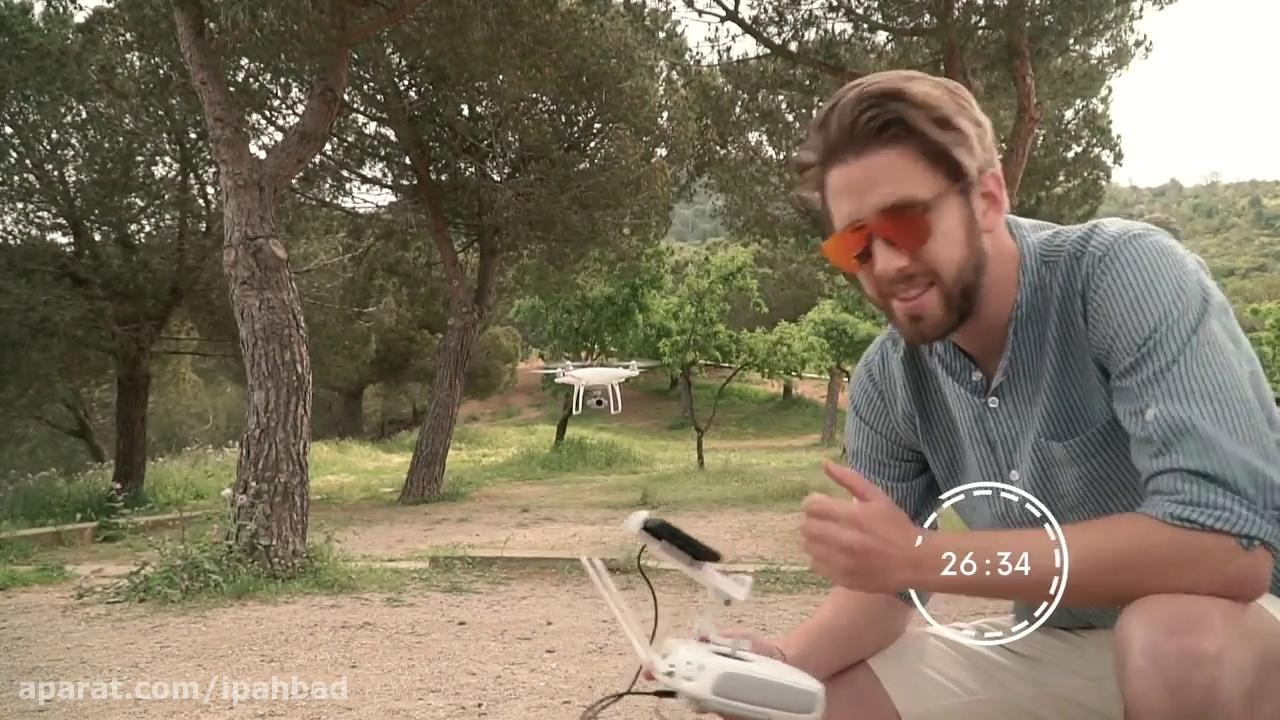drone: (528, 355, 662, 415)
